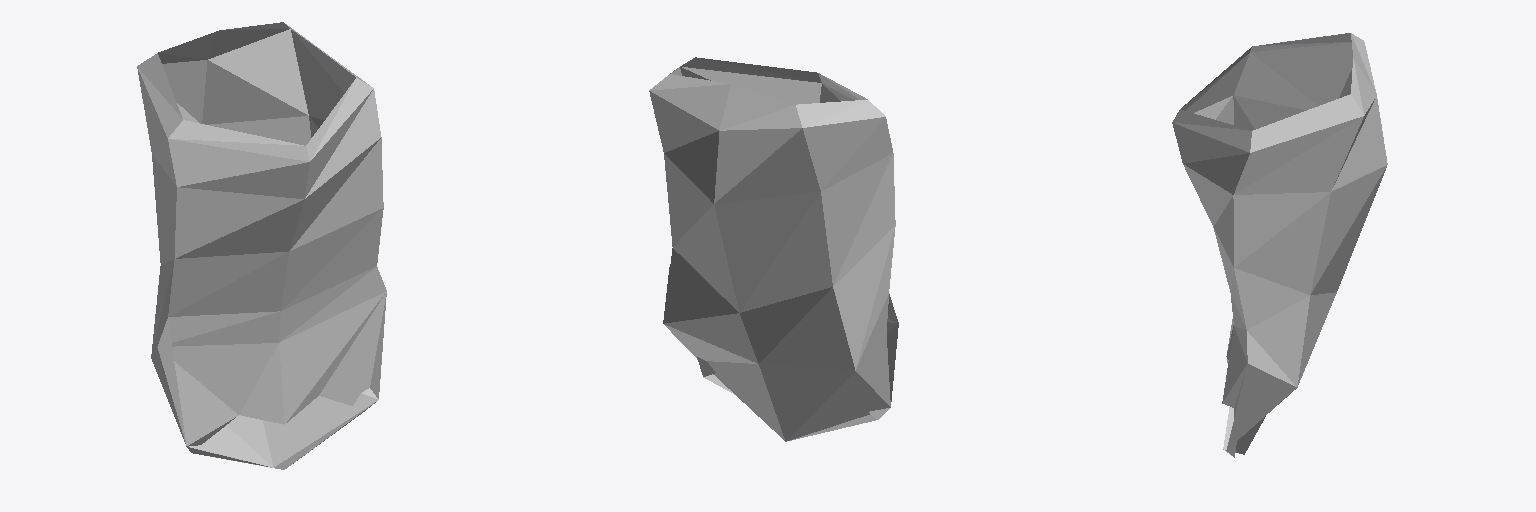
File: Depressor_Speti_Nasi_Muscle.obj
3 views of the same model, side by side, from view 1: azimuth 30°, elevation 25°; view 2: azimuth 150°, elevation 25°; view 3: azimuth 270°, elevation 25° (orthographic).
Parts seen in each view (by area): view 1: Depressor_Septi_Nasi_uscle_Mesh group1; view 2: Depressor_Septi_Nasi_uscle_Mesh group1; view 3: Depressor_Septi_Nasi_uscle_Mesh group1.
Part boxes in pixels (x1,y1,x2,y2): Depressor_Septi_Nasi_uscle_Mesh group1: (137, 22, 386, 469); Depressor_Septi_Nasi_uscle_Mesh group1: (649, 57, 898, 441); Depressor_Septi_Nasi_uscle_Mesh group1: (1172, 33, 1387, 457).
Bounding box in the file's own units: 0.147 × 0.2433 × 0.1196.